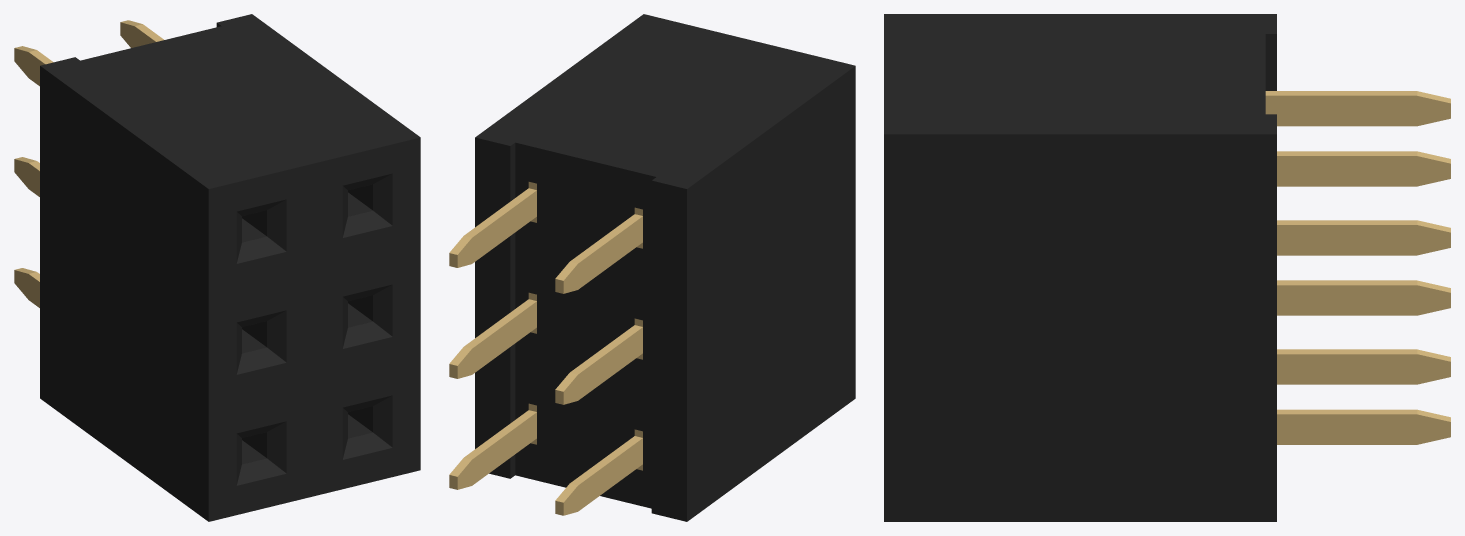
The model's file is PinSocket_2x03_P2.54mm_Vertical.glb.
3 views of the same model, side by side, from view 1: azimuth 30°, elevation 25°; view 2: azimuth 150°, elevation 25°; view 3: azimuth 270°, elevation 25° (orthographic). The views are drawn at different scales.
Visible parts, largest first — view 1: PinSocket_2x03_P254mm_Vertical_49ef5e, PinSocket_2x03_P254mm_Vertical_d9fffe; view 2: PinSocket_2x03_P254mm_Vertical_49ef5e, PinSocket_2x03_P254mm_Vertical_d9fffe; view 3: PinSocket_2x03_P254mm_Vertical_49ef5e, PinSocket_2x03_P254mm_Vertical_d9fffe.
Part boxes in pixels (left/top/right/bottom): PinSocket_2x03_P254mm_Vertical_49ef5e: left=40, top=14, right=420, bottom=521; PinSocket_2x03_P254mm_Vertical_d9fffe: left=14, top=20, right=163, bottom=307; PinSocket_2x03_P254mm_Vertical_49ef5e: left=475, top=14, right=855, bottom=521; PinSocket_2x03_P254mm_Vertical_d9fffe: left=449, top=182, right=642, bottom=515; PinSocket_2x03_P254mm_Vertical_49ef5e: left=884, top=14, right=1276, bottom=521; PinSocket_2x03_P254mm_Vertical_d9fffe: left=1265, top=91, right=1450, bottom=444.
Size of the model in its own units: 0.00508 by 0.00762 by 0.0101.
